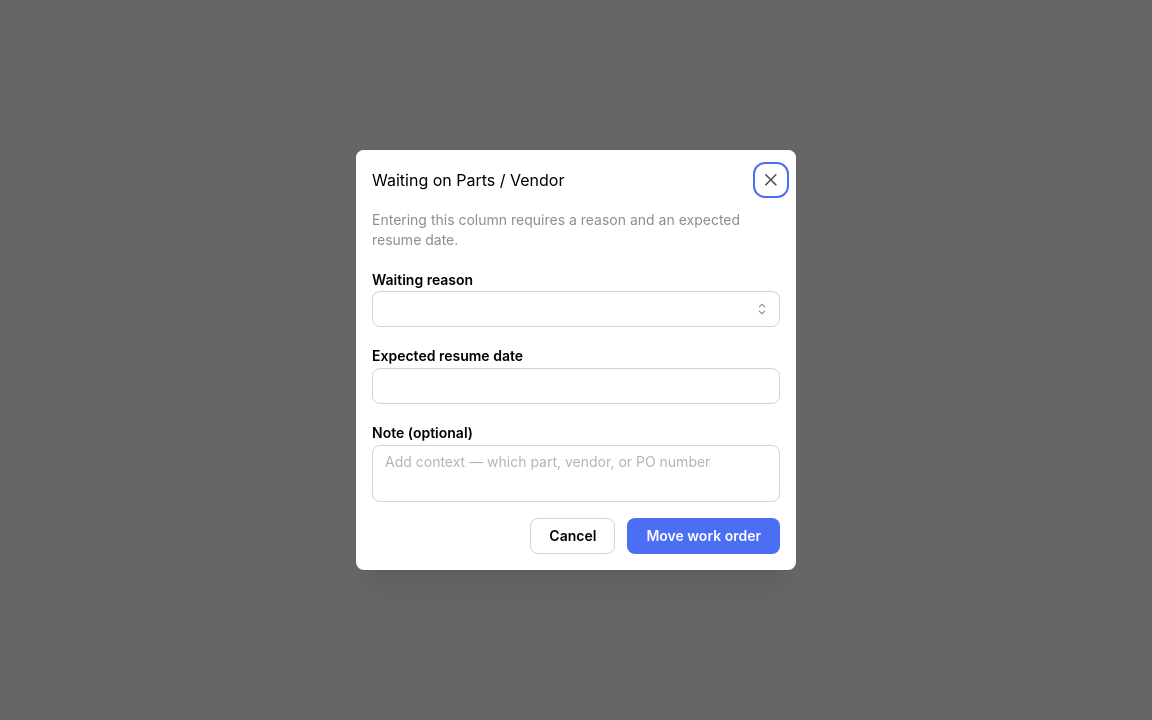
Scenario: WaitingLaneModal › requires both a reason and a resume date before submitting
Click the button "Move work order" at (704, 536), box [627,518,780,554]
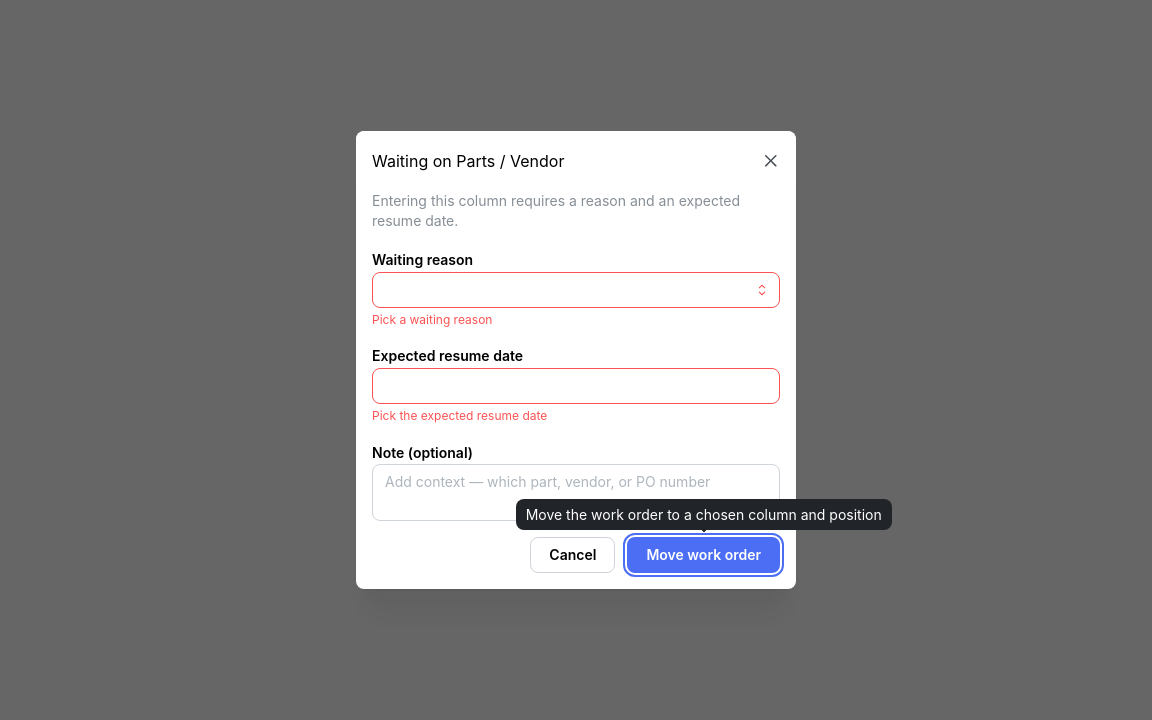
Check: the text "Pick a waiting reason" is shown, box [372,312,492,327]
Check: the text "Pick the expected resume date" is shown, box [372,408,547,423]
